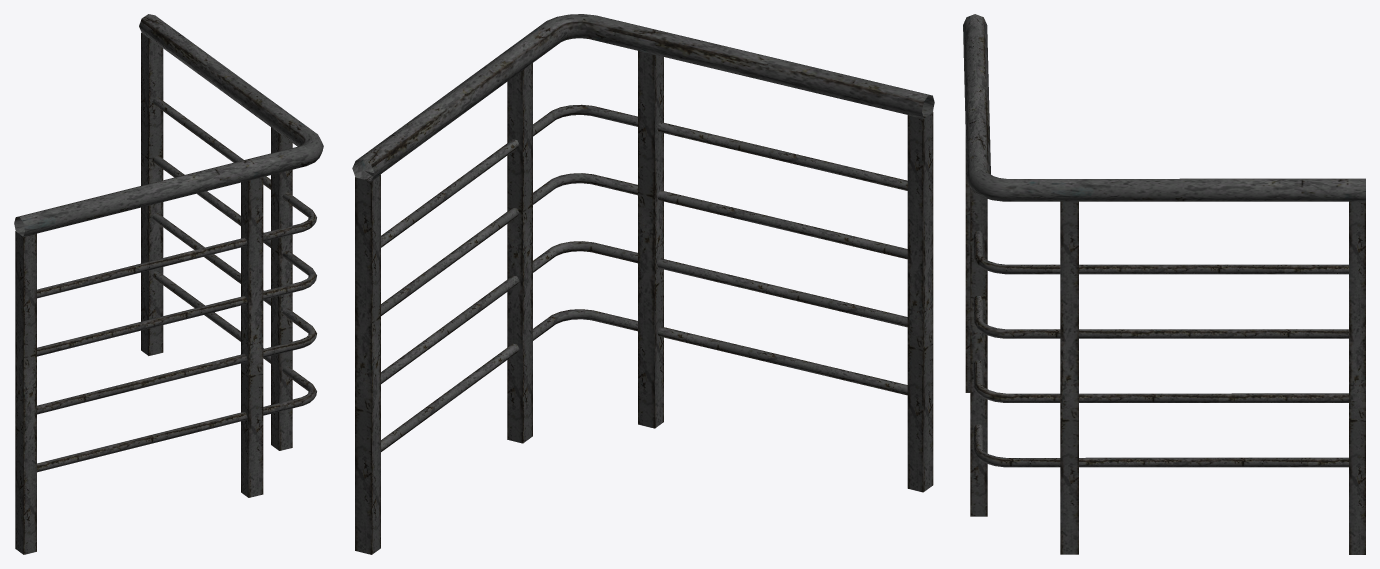
Rendered from p6_blackout_rail_corner_32_lod0.glb.
The picture shows the model from 3 angles, left to right: view 1: azimuth 30°, elevation 25°; view 2: azimuth 150°, elevation 25°; view 3: azimuth 270°, elevation 25°; orthographic projection. The views are drawn at different scales.
Visible parts, largest first — view 1: surf0; view 2: surf0; view 3: surf0.
Part boxes in pixels (x1,y1,x2,y2): surf0: (14, 14, 323, 554); surf0: (352, 14, 934, 554); surf0: (963, 14, 1365, 554).
Bounding box in the file's own units: 33 × 33.59 × 32.99.
